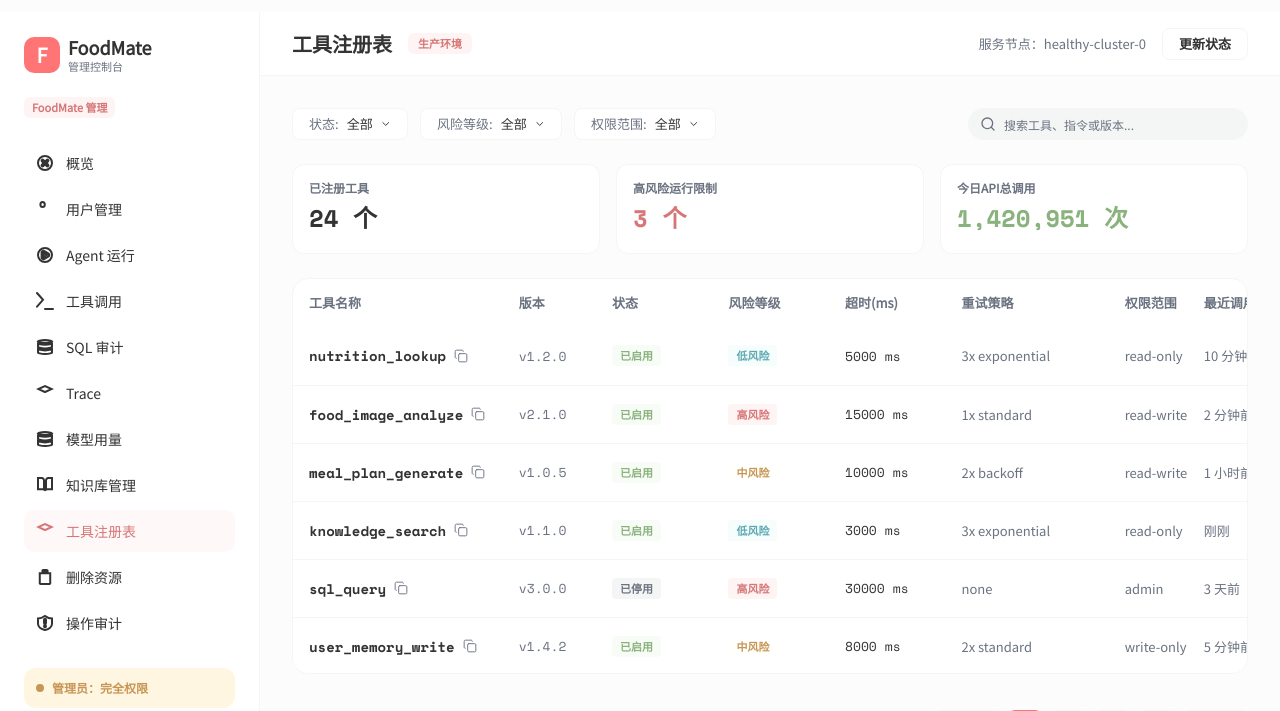
it: Admin tool registry › filters tools by status and search query
Click the dropdown named "工具状态筛选". click: (350, 124)
box: [292, 108, 408, 140]
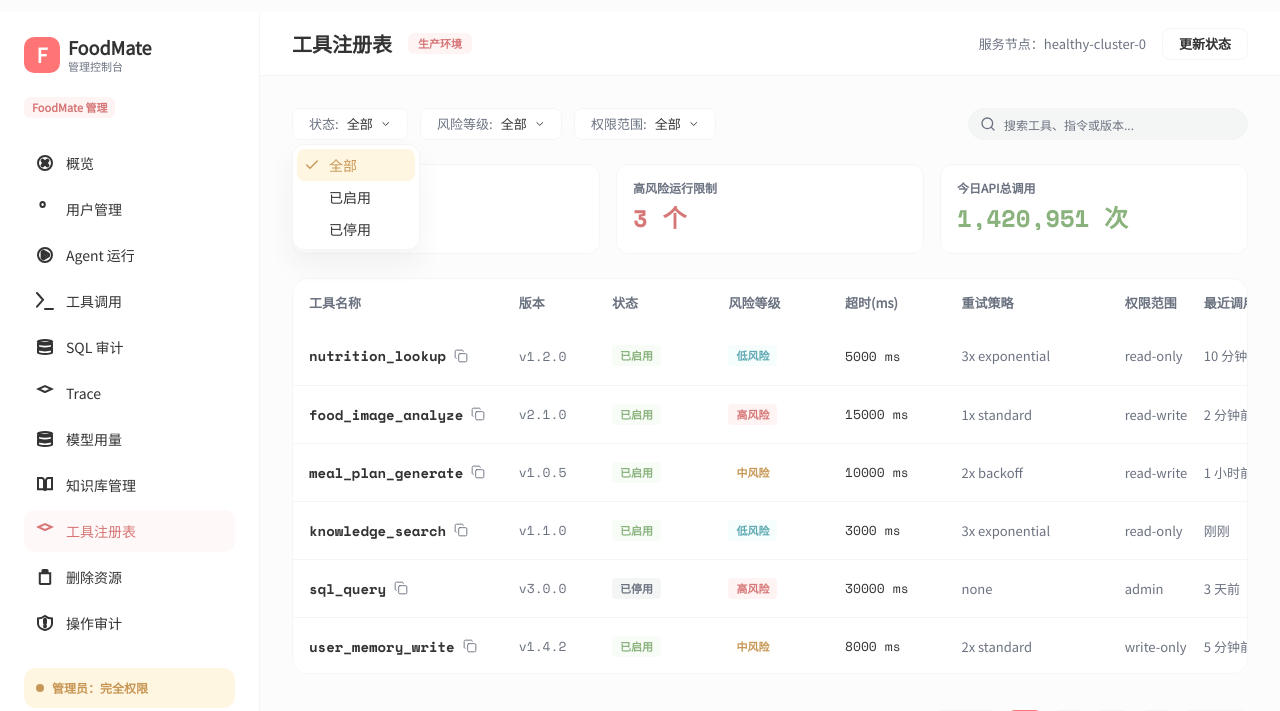
Click the option "已停用". click: (350, 229)
box: [329, 219, 371, 239]
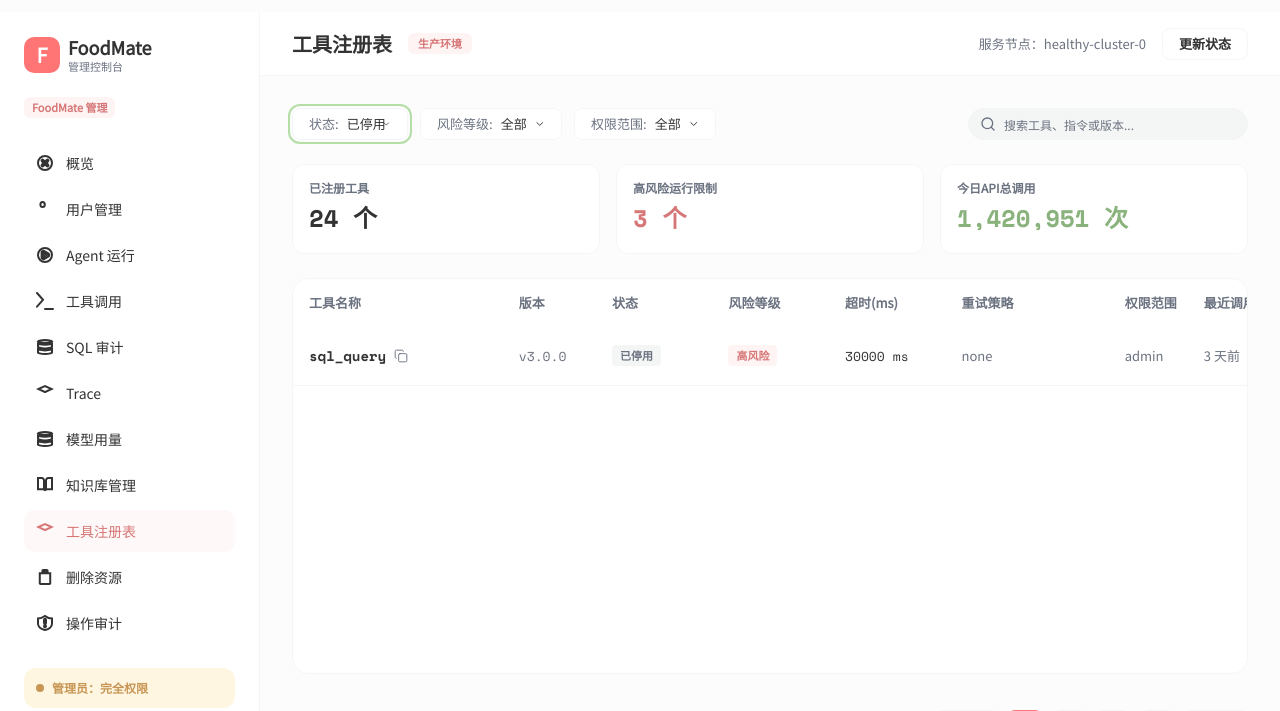
Expected: the text "sql_query" is shown, [309, 345, 386, 366]
Result: the text "nutrition_lookup" is gone
Type "food_image" into the field labelled "搜索工具、指令或版本". click: (1120, 124)
box: [1004, 109, 1236, 139]
(page scrolled)
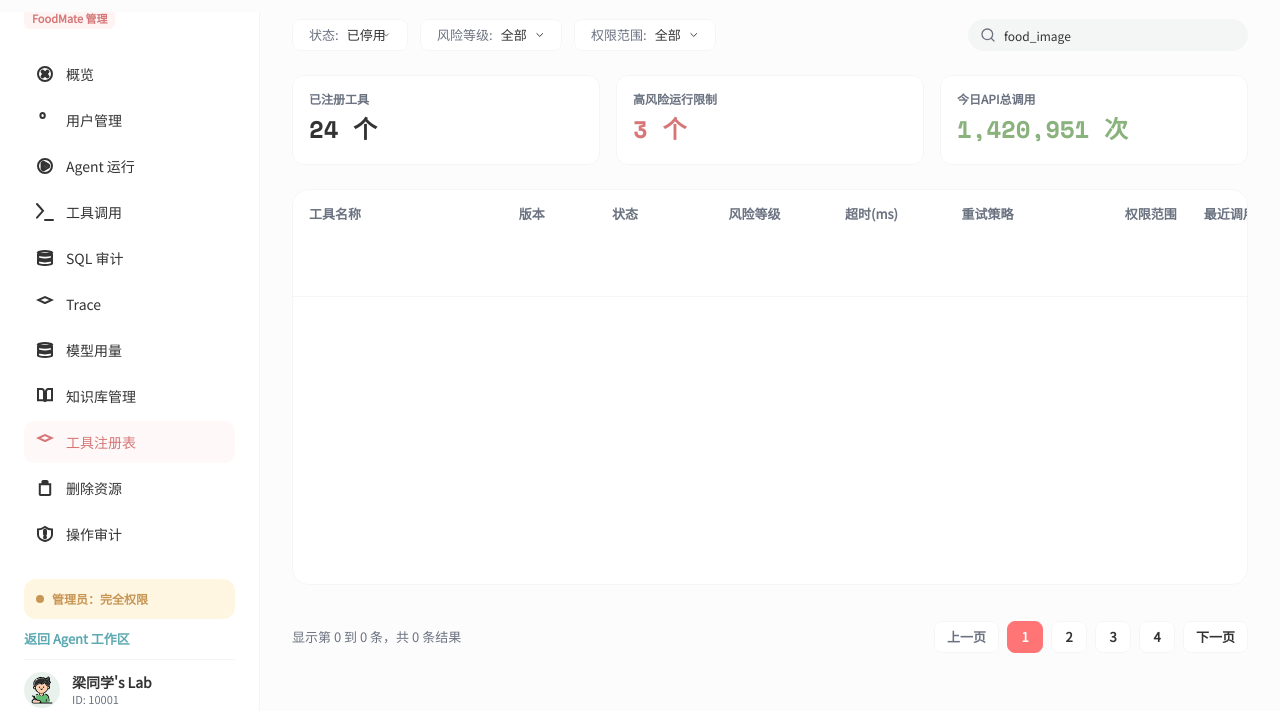
Result: the text "sql_query" is gone
Result: the text "显示第 0 到 0 条，共 0 条结果" is shown at [292, 629, 461, 645]
